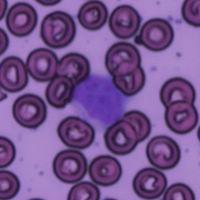M: (70, 72, 128, 127)
